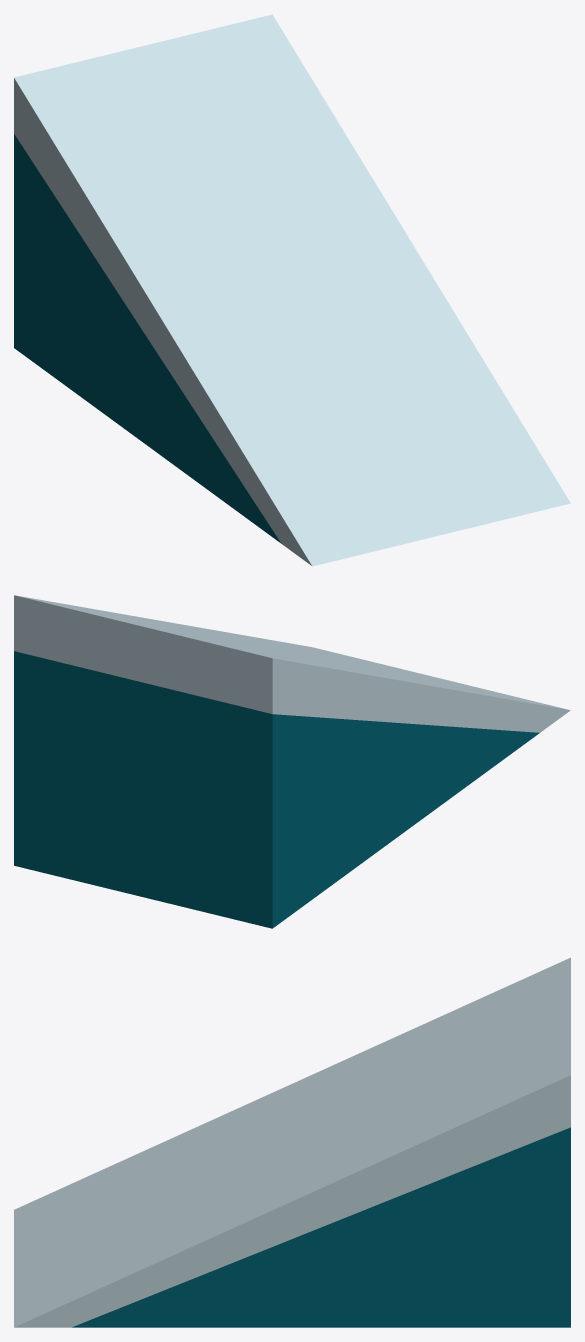
The model's file is Slope2x1x1.fbx.
3 views of the same model, one above another, from view 1: azimuth 30°, elevation 25°; view 2: azimuth 150°, elevation 25°; view 3: azimuth 270°, elevation 25° (orthographic). The views are drawn at different scales.
Visible parts, largest first — view 1: pCube42; view 2: pCube42; view 3: pCube42.
Boxes of the visible parts, x1,y1,x2,y2 form: pCube42: (14, 14, 570, 566); pCube42: (14, 595, 570, 928); pCube42: (14, 957, 570, 1327).
Bounding box in the file's own units: 100 × 100 × 200.
